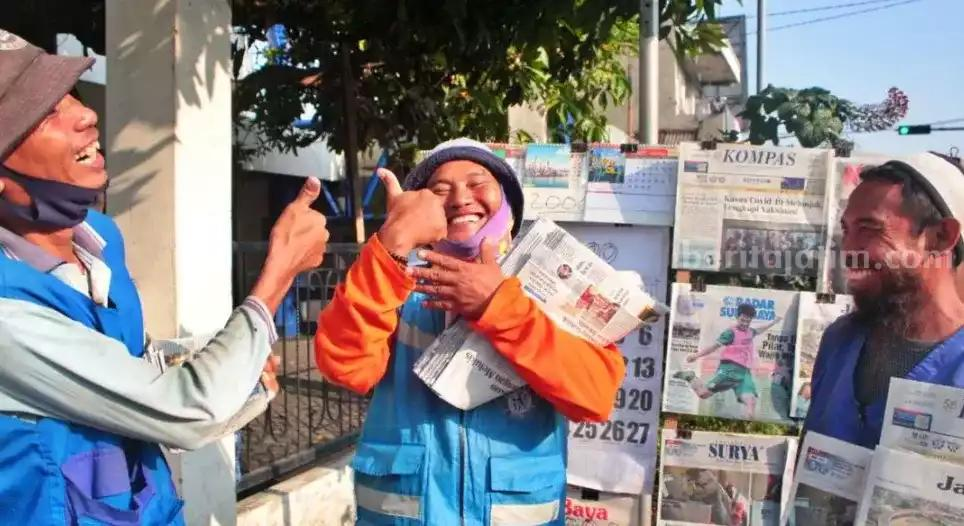Kertas: (671, 132, 841, 280), (672, 279, 814, 432)
